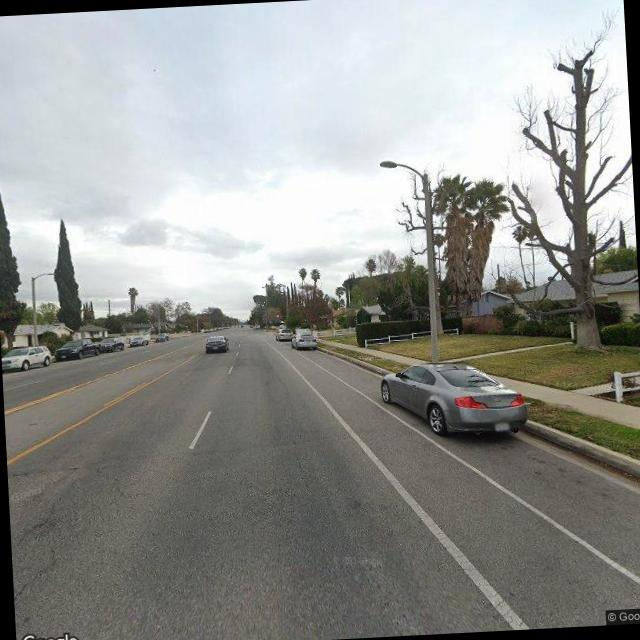pothole: (12, 545, 64, 631)
